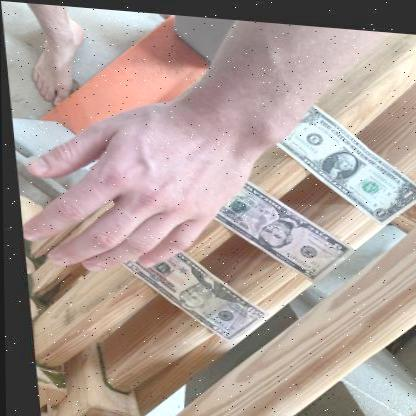dollar_back: (270, 97, 416, 221)
dollar_front: (112, 229, 261, 338), (205, 174, 350, 278)
